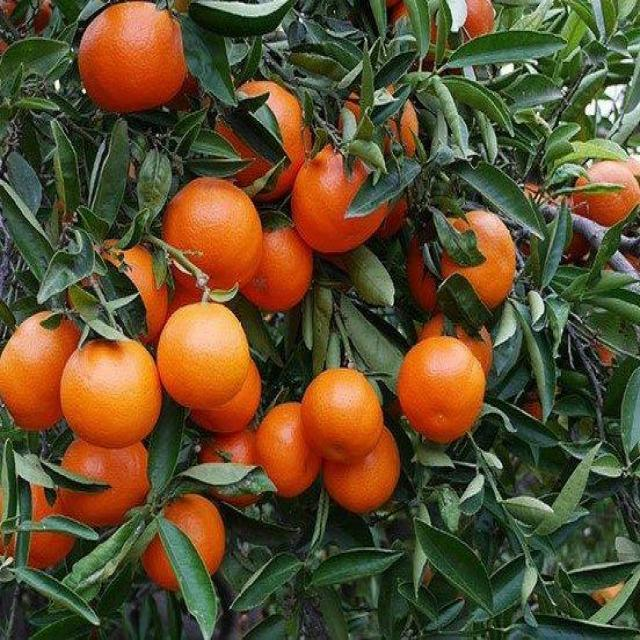Jeruk Sudah Matang: (206, 67, 330, 225), (58, 216, 181, 359), (428, 190, 530, 334), (77, 3, 187, 115), (0, 438, 83, 583), (291, 149, 397, 258), (162, 180, 264, 291), (60, 342, 162, 450), (0, 311, 82, 434), (53, 430, 150, 531), (397, 338, 488, 444), (158, 304, 250, 407), (300, 369, 384, 460), (564, 150, 640, 249), (253, 403, 325, 498), (325, 429, 401, 515), (242, 229, 313, 313), (163, 495, 226, 577)
